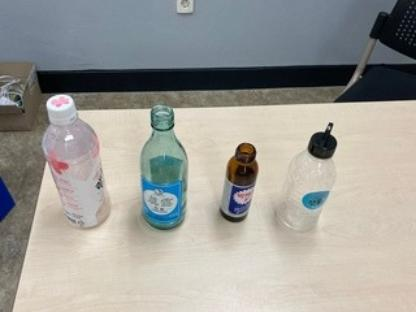Glass Bottle: (138, 103, 192, 233)
Others: (216, 140, 262, 227)
Plastic Bottle: (40, 92, 114, 232), (274, 120, 344, 234)
